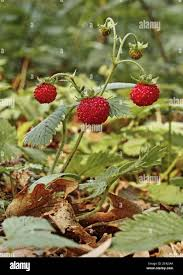strawberry: (77, 96, 109, 123), (130, 83, 159, 105), (34, 82, 56, 103)
